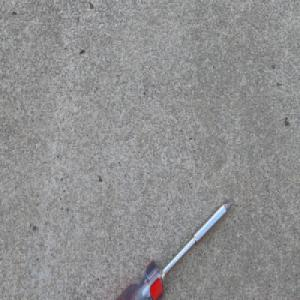Screwdriver: (111, 197, 234, 300)
